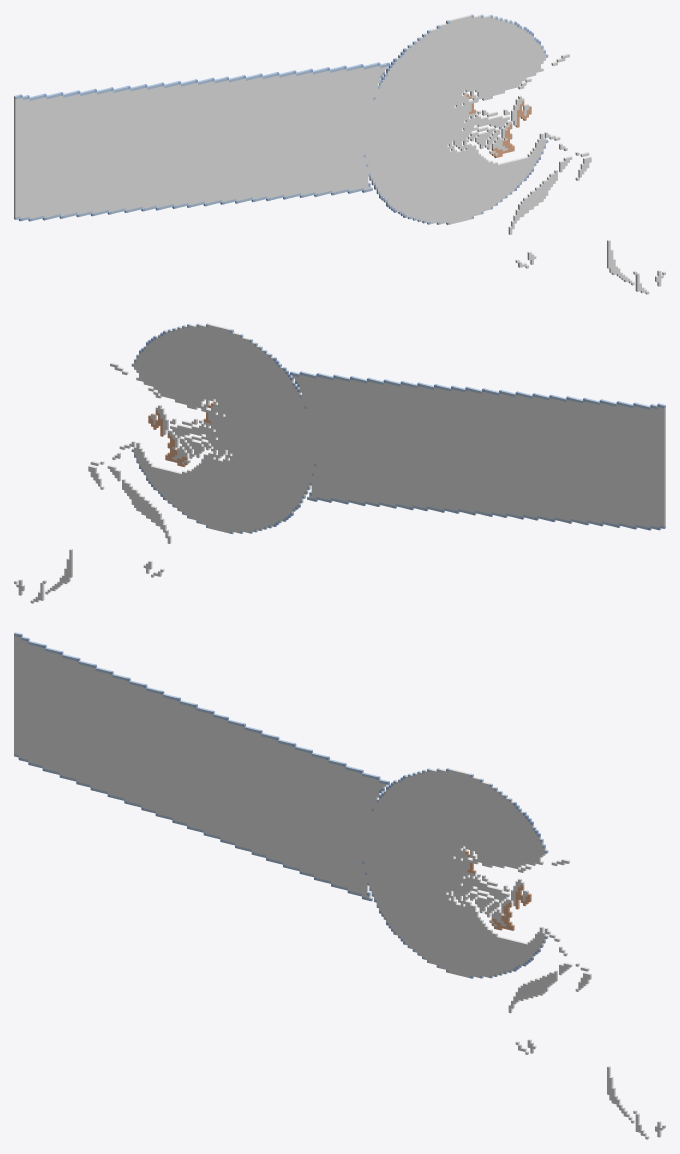
The model's file is Fight_028_2_14_fx.obj.
3 renders of one model, top to bottom at view 1: azimuth 30°, elevation 25°; view 2: azimuth 150°, elevation 25°; view 3: azimuth 330°, elevation 25°, orthographic.
Size of the model in its own units: 27.1 by 14 by 0.1.
Materials: 1 (1 with a texture image).
